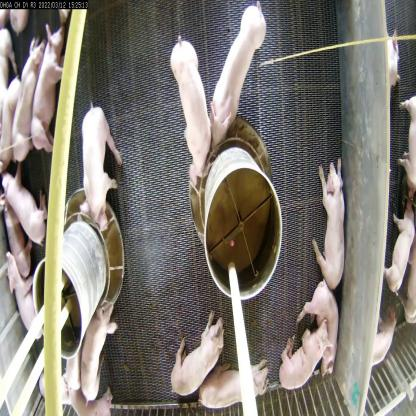Pig: (208, 7, 282, 132), (164, 40, 224, 192), (310, 148, 356, 304), (78, 93, 127, 233), (31, 13, 78, 151), (189, 348, 267, 415), (9, 47, 48, 174), (306, 267, 347, 384), (78, 292, 118, 406), (170, 321, 222, 407), (267, 325, 333, 390), (7, 174, 49, 247), (0, 243, 35, 310)
